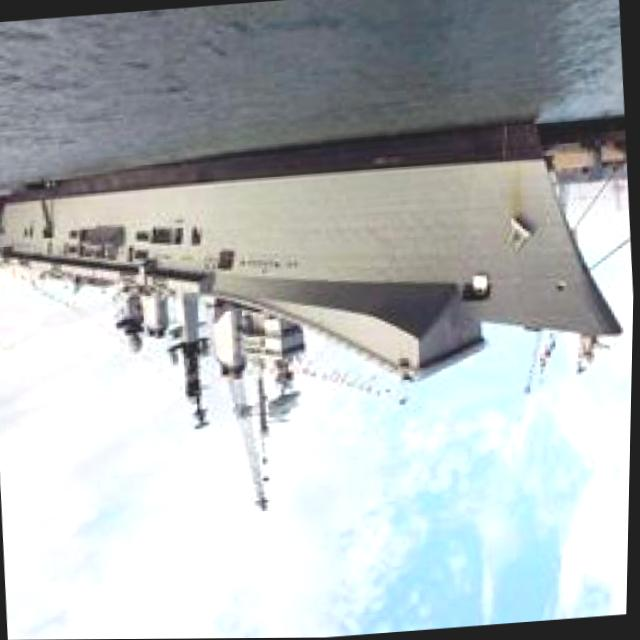ship2: (0, 121, 620, 506)
